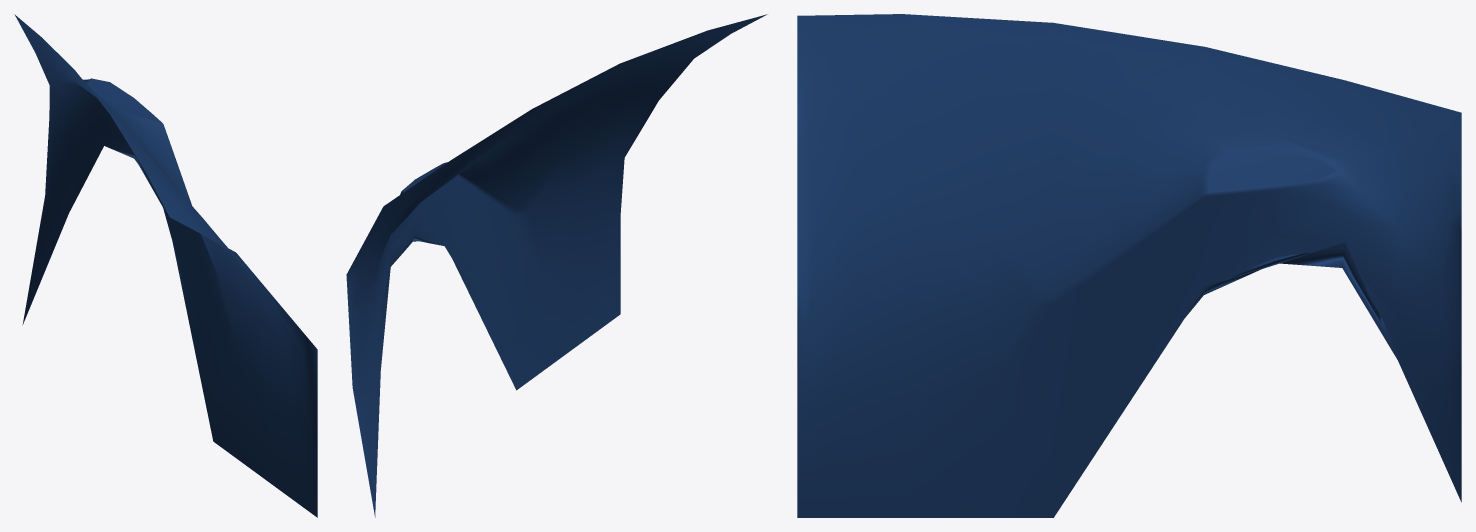
File: rear_quarter_left.glb
The picture shows the model from 3 angles, left to right: view 1: azimuth 30°, elevation 25°; view 2: azimuth 150°, elevation 25°; view 3: azimuth 270°, elevation 25°; orthographic projection. The views are drawn at different scales.
Parts seen in each view (by area): view 1: GEO_Quarter_Rear_Left; view 2: GEO_Quarter_Rear_Left; view 3: GEO_Quarter_Rear_Left.
Part boxes in pixels (x1,y1,x2,y2): GEO_Quarter_Rear_Left: [14, 14, 317, 517]; GEO_Quarter_Rear_Left: [346, 14, 767, 517]; GEO_Quarter_Rear_Left: [797, 14, 1461, 517].
Bounding box in the file's own units: 0.39 × 0.8199 × 1.14.
